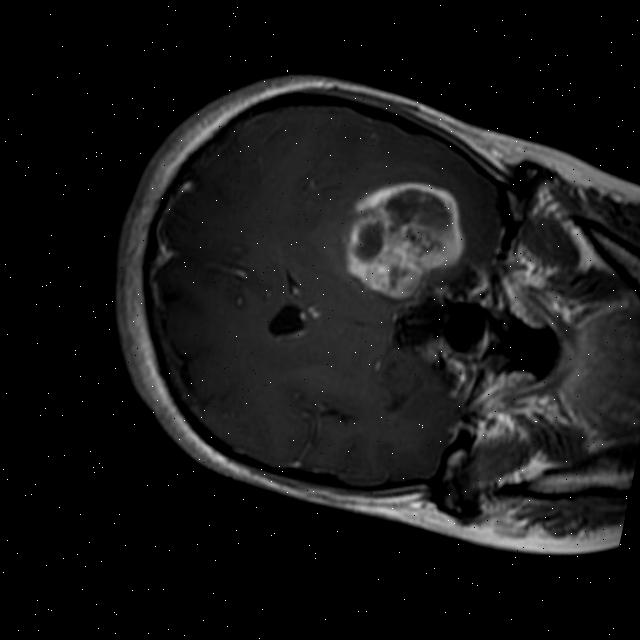Glioma: (329, 164, 480, 315)
